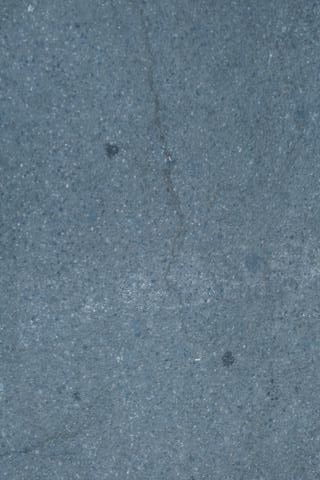A: (139, 4, 195, 345)
